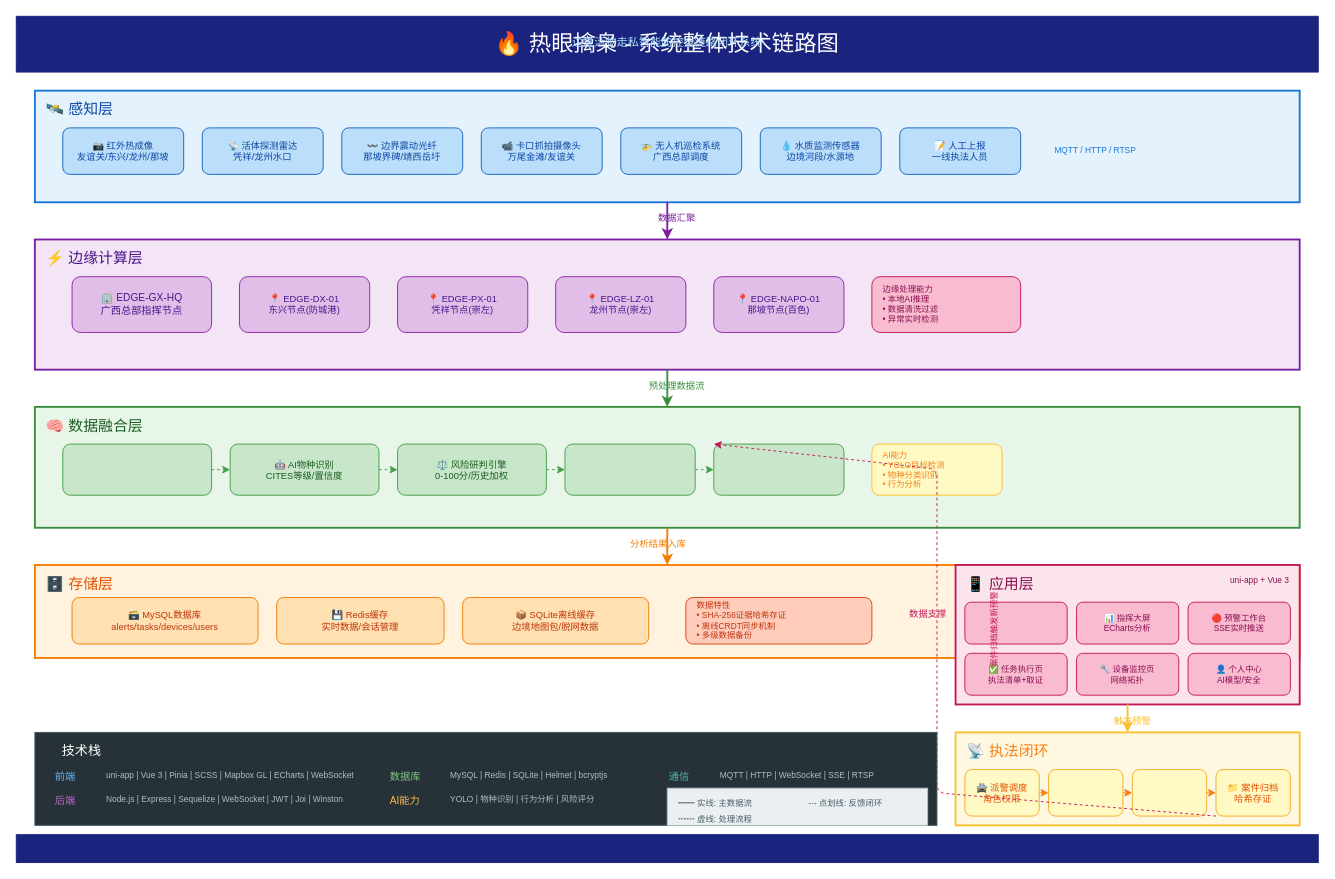
The diagram is 1335 pixels wide and 879 high, and some of its shapes have lost their labels. The shapes that lost their labels are listed below. From the top down, each one's box as (x1, y1, x2, y2) in pixels, then its label:
(62, 443, 212, 495): 🔗 时空融合引擎 坐标对齐/时间戳同步
(564, 443, 695, 495): 📊 风险评分输出 威胁等级分类
(713, 443, 844, 495): 🚨 预警生成模块 实时推送
(964, 601, 1067, 644): 🗺️ GIS态势一图 五图层叠加
(1048, 769, 1123, 816): 📋 证据固定 水印+签名
(1131, 769, 1207, 816): 🔍 研判分析 AI辅助
(15, 834, 1318, 863): 热眼擒枭 - 用科技守护绿水青山，用智慧筑牢边境防线
